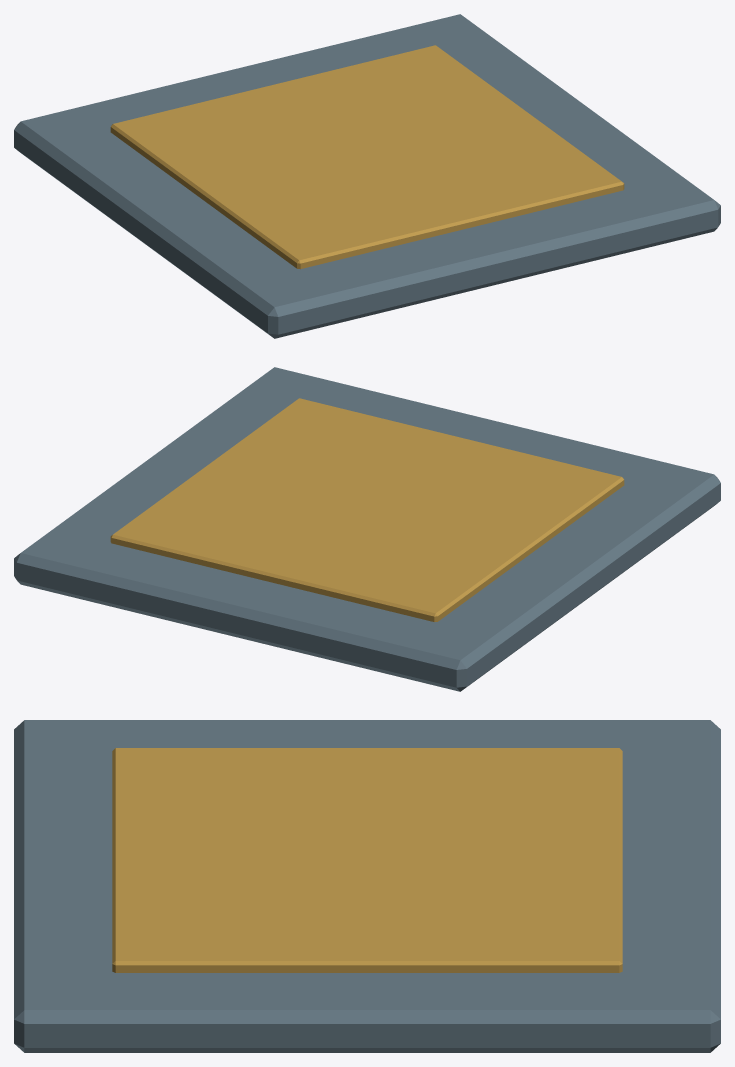
The model's file is objects-pressure-plate.lod0.glb.
3 renders of one model, top to bottom at view 1: azimuth 30°, elevation 25°; view 2: azimuth 150°, elevation 25°; view 3: azimuth 270°, elevation 25°, orthographic. The views are drawn at different scales.
Visible parts, largest first — view 1: objects-pressure-plate__body; view 2: objects-pressure-plate__body; view 3: objects-pressure-plate__body.
Part boxes in pixels (x1,y1,x2,y2): objects-pressure-plate__body: (14, 14, 720, 338); objects-pressure-plate__body: (14, 367, 720, 691); objects-pressure-plate__body: (14, 720, 720, 1052).
Size of the model in its own units: 0.9 by 0.075 by 0.9.
